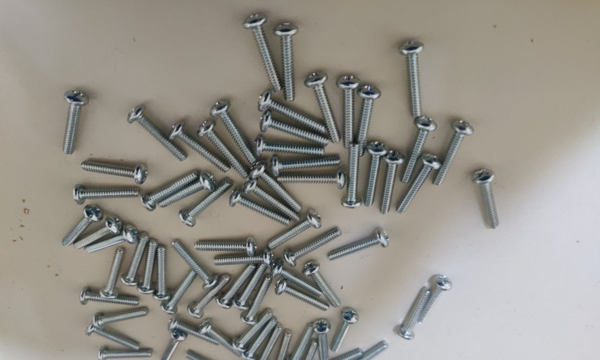longscrew: (129, 108, 184, 162), (213, 95, 256, 164), (261, 104, 331, 145), (259, 95, 328, 136), (245, 12, 279, 94), (199, 123, 247, 179), (171, 127, 228, 174), (252, 163, 308, 209), (395, 155, 440, 212), (306, 74, 343, 143), (175, 183, 230, 227), (243, 179, 299, 220), (436, 120, 471, 185), (140, 171, 198, 210), (285, 228, 342, 267), (331, 229, 388, 268), (404, 115, 436, 184), (273, 19, 299, 103), (228, 195, 290, 227), (403, 31, 424, 124), (271, 261, 321, 299), (174, 242, 215, 288), (62, 87, 87, 158), (472, 167, 501, 228), (158, 179, 219, 208), (231, 313, 271, 357), (270, 213, 321, 247), (271, 153, 343, 177), (303, 263, 343, 306), (188, 275, 226, 320), (276, 167, 347, 191), (79, 159, 150, 183), (75, 217, 125, 251), (239, 280, 277, 324), (234, 265, 272, 309), (216, 265, 254, 309), (275, 282, 327, 314), (253, 133, 325, 156), (161, 272, 197, 316), (358, 85, 380, 155), (85, 323, 137, 352), (380, 148, 403, 213), (339, 76, 360, 147), (123, 234, 151, 287), (59, 209, 98, 247), (200, 323, 240, 360), (84, 226, 136, 253), (167, 320, 219, 347), (419, 278, 450, 323), (68, 190, 150, 206), (246, 319, 277, 360), (212, 251, 275, 271), (344, 145, 363, 211), (405, 287, 428, 340), (194, 236, 258, 255), (365, 144, 384, 205), (92, 309, 149, 329), (334, 309, 359, 354), (138, 239, 156, 297), (80, 291, 139, 308), (102, 245, 120, 298), (155, 245, 171, 303), (259, 325, 281, 360), (161, 329, 185, 360), (343, 344, 389, 360), (94, 348, 153, 360), (294, 323, 313, 360), (315, 319, 331, 360), (312, 350, 367, 360), (275, 327, 290, 360), (185, 353, 236, 360), (297, 342, 316, 360)
